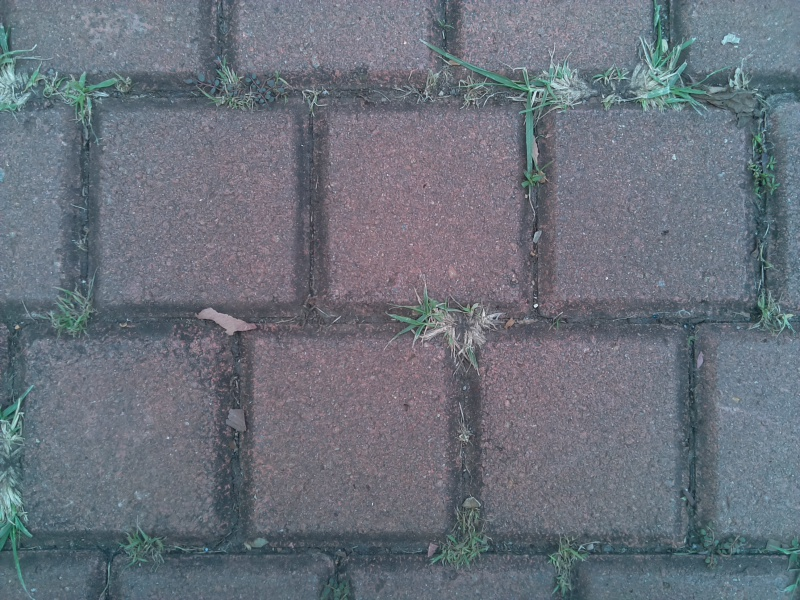Weed: (389, 282, 507, 361), (480, 54, 599, 121), (624, 29, 703, 118), (1, 387, 40, 548), (51, 63, 119, 134), (206, 60, 291, 115), (427, 504, 497, 570), (35, 281, 108, 341), (1, 25, 37, 120), (750, 284, 796, 344), (115, 521, 169, 571), (543, 537, 589, 593), (695, 523, 751, 568), (517, 166, 548, 193)
